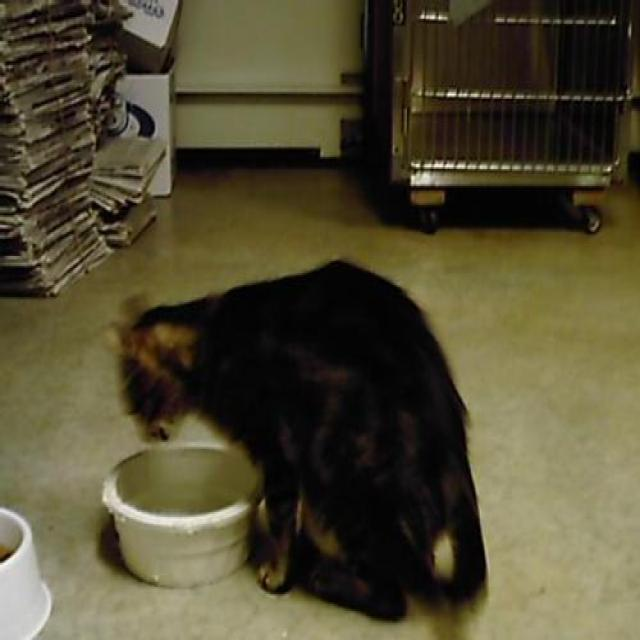Cats: (105, 256, 489, 623)
